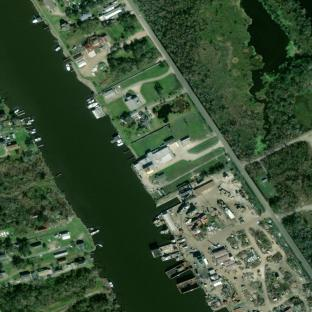Floresta: (142, 0, 246, 163), (258, 0, 312, 143), (0, 156, 63, 232), (0, 268, 95, 312), (262, 140, 312, 215), (108, 38, 160, 79), (282, 211, 312, 267), (67, 293, 122, 312)
